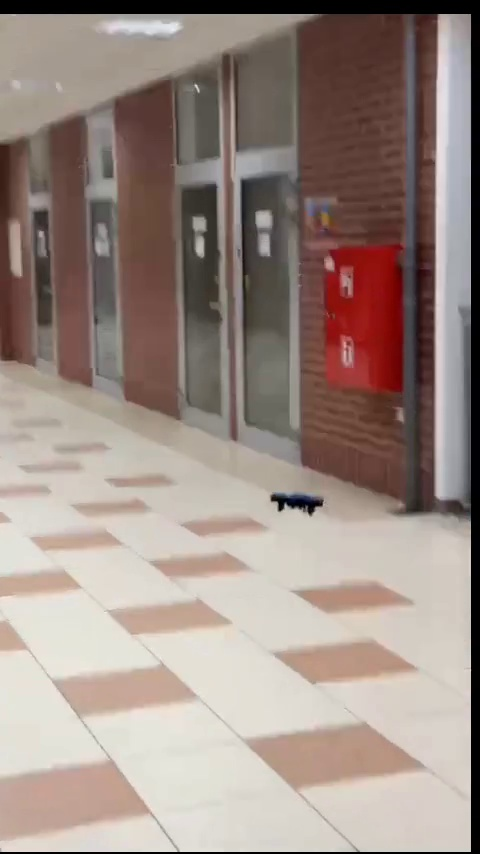drone: (264, 491, 325, 518)
